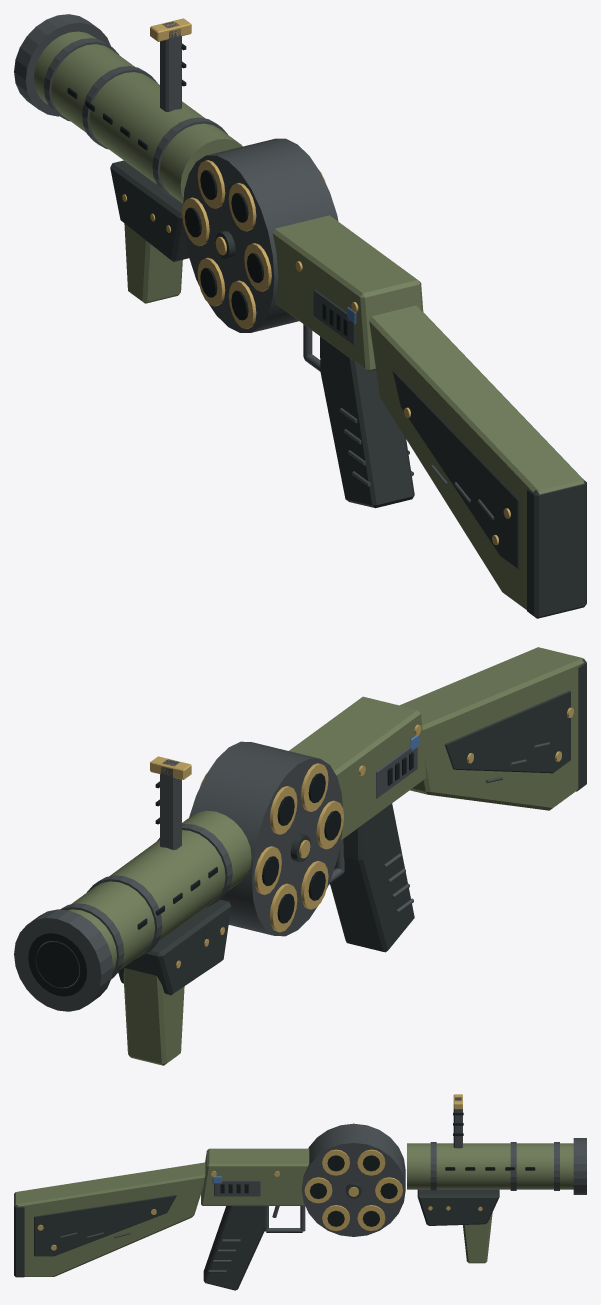
File: grenade_2.glb
The picture shows the model from 3 angles, top to bottom: view 1: azimuth 30°, elevation 25°; view 2: azimuth 150°, elevation 25°; view 3: azimuth 270°, elevation 25°; orthographic projection. The views are drawn at different scales.
Parts seen in each view (by area): view 1: Weapon_grenade_v1; view 2: Weapon_grenade_v1; view 3: Weapon_grenade_v1.
Boxes of the visible parts, <box> form: Weapon_grenade_v1: <box>14,14,586,618</box>; Weapon_grenade_v1: <box>14,647,586,1065</box>; Weapon_grenade_v1: <box>14,1094,586,1290</box>.
Size of the model in its own units: 0.086 by 0.3092 by 0.86.
